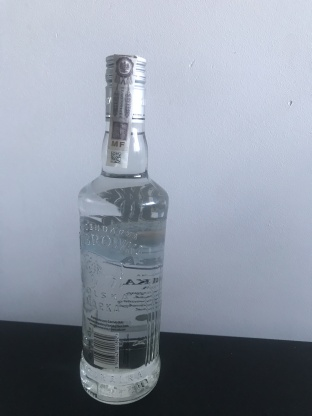nakretka: (102, 50, 148, 126)
